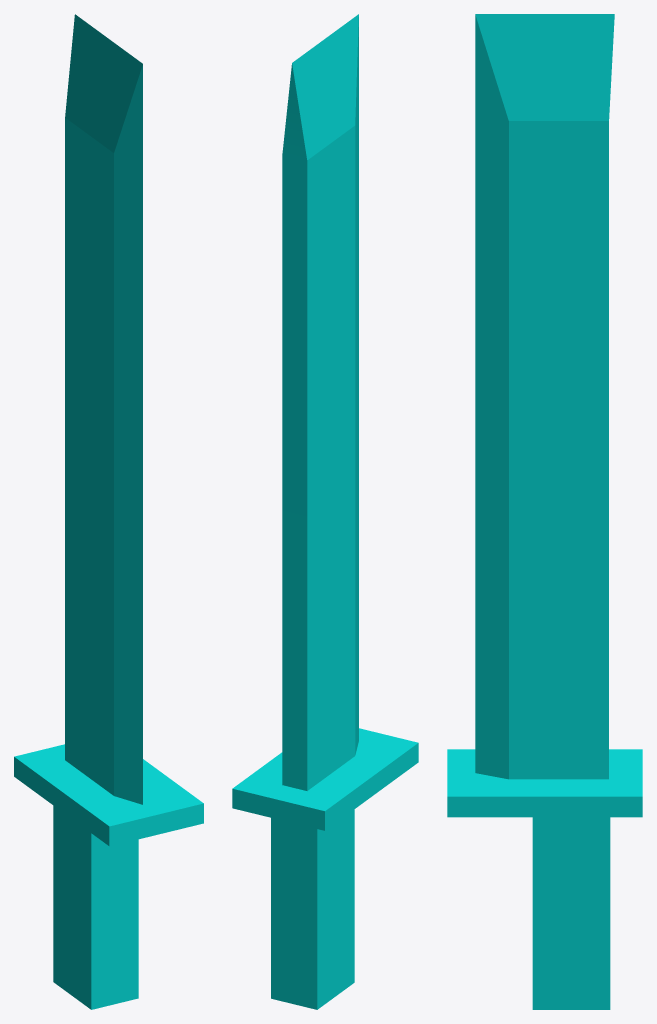
The model's file is machete.fbx.
3 views of the same model, side by side, from view 1: azimuth 30°, elevation 25°; view 2: azimuth 150°, elevation 25°; view 3: azimuth 270°, elevation 25° (orthographic). The views are drawn at different scales.
Visible parts, largest first — view 1: machete; view 2: machete; view 3: machete.
Part boxes in pixels (left/top/right/bottom): machete: left=14, top=14, right=203, bottom=1009; machete: left=232, top=14, right=418, bottom=1009; machete: left=447, top=14, right=642, bottom=1009.
Size of the model in its own units: 0.04 by 0.389 by 0.07.
